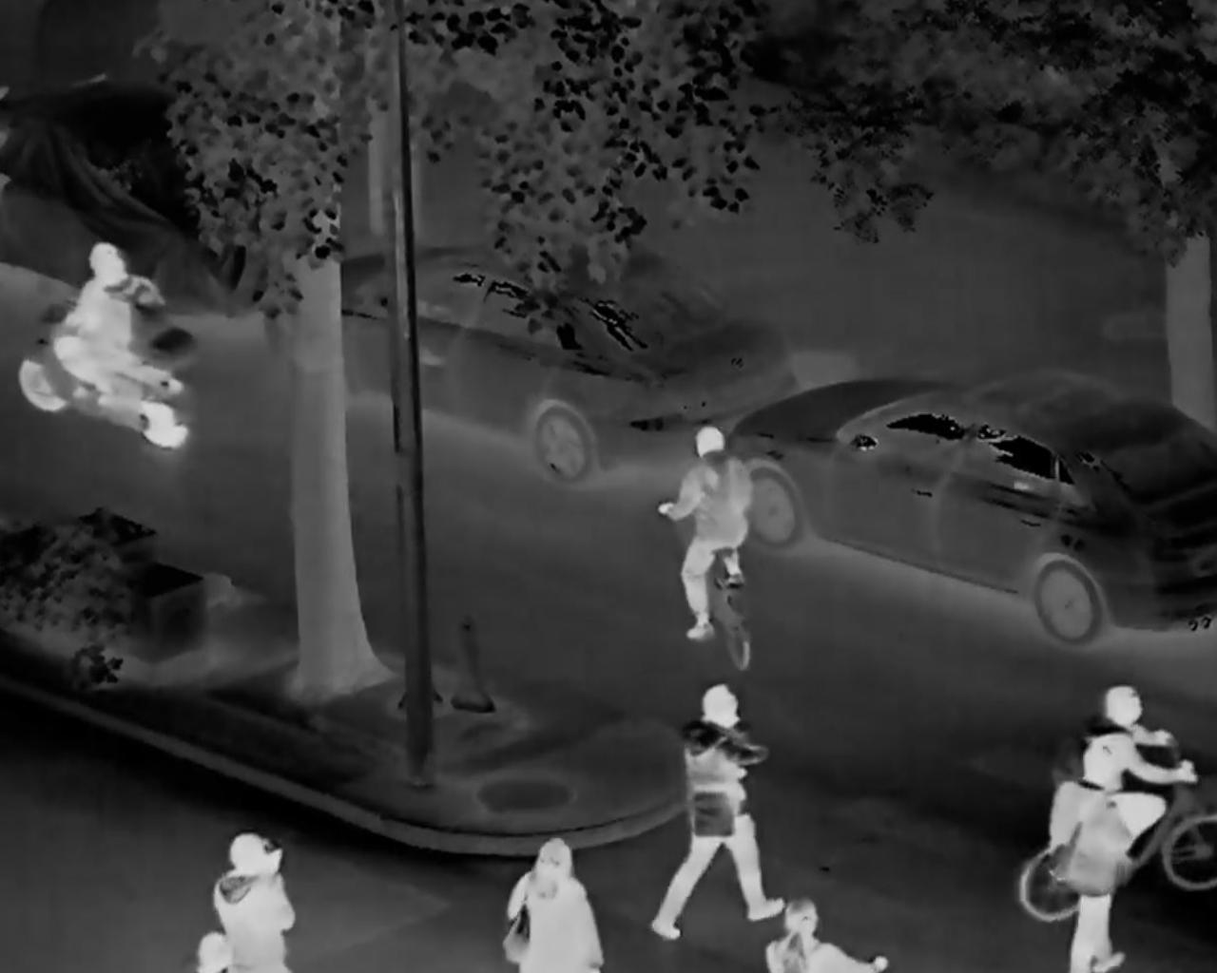person: (653, 668, 786, 929), (1058, 656, 1213, 846), (647, 415, 770, 641), (1026, 712, 1131, 973), (44, 225, 167, 427), (504, 819, 608, 973), (201, 819, 305, 973), (757, 890, 889, 973)
